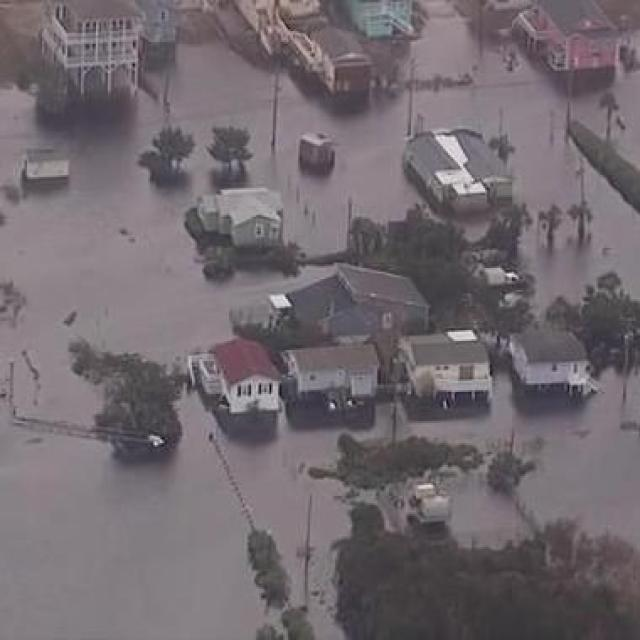flooded_areas: (0, 36, 628, 580)
